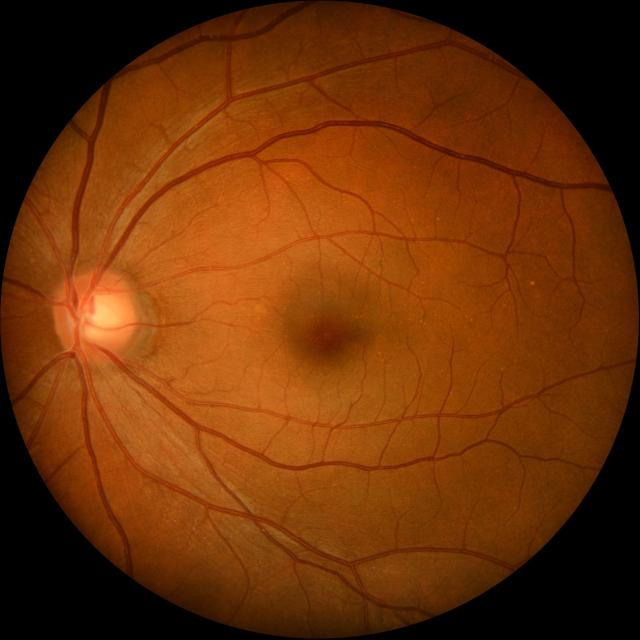OC: (79, 292, 118, 342)
OD: (54, 269, 135, 360)
